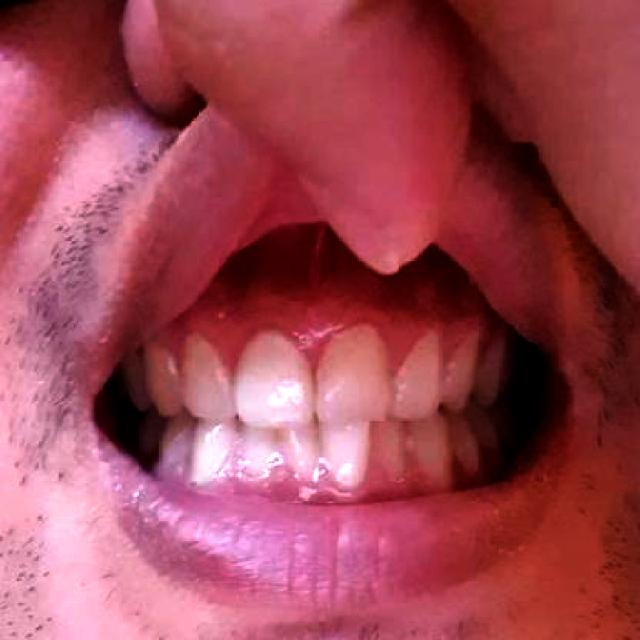Plaque: (161, 313, 475, 386)
